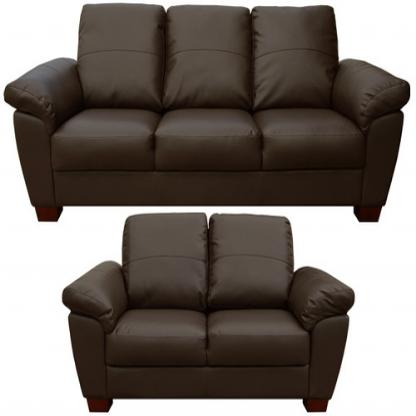sofa: (5, 3, 410, 221), (63, 212, 354, 413)
